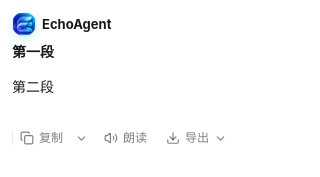
Test: assistant message actions › Escape 关闭复制菜单并把焦点还给触发器
Click the button named "更多复制选项". click: (82, 138)
box: [70,120,93,156]
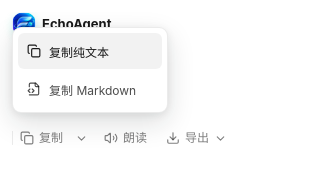
Press Escape
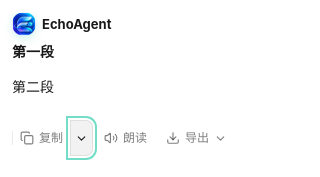
Expected: the menu "选择复制格式" is gone
